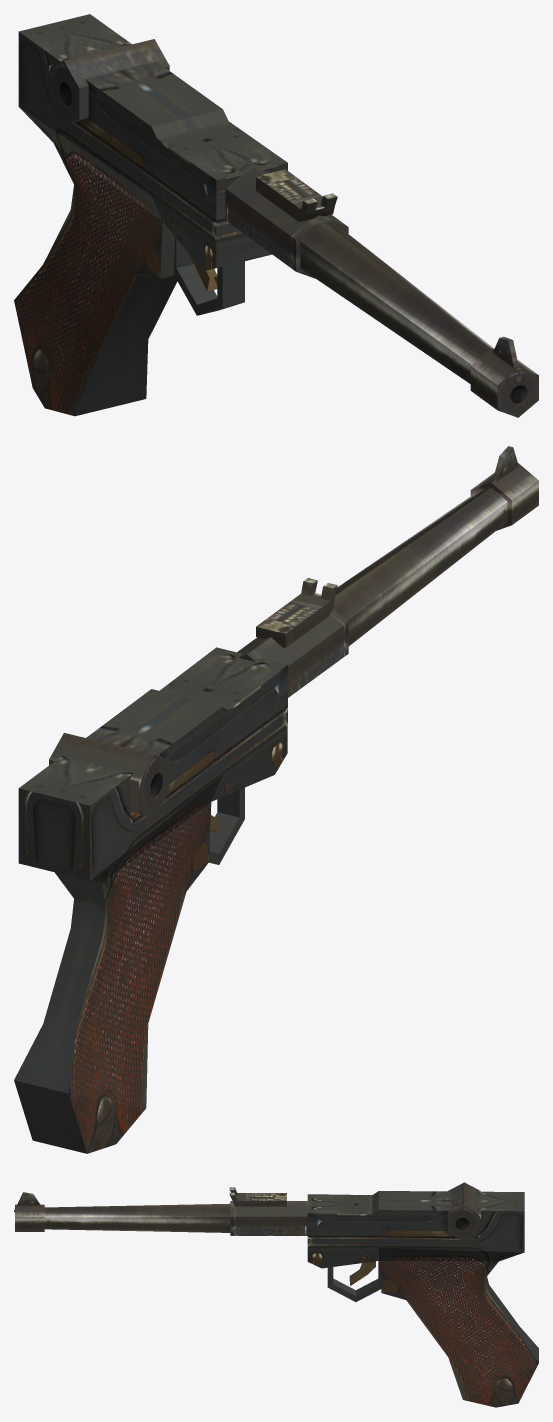
File: Lugar.fbx
3 renders of one model, top to bottom at view 1: azimuth 30°, elevation 25°; view 2: azimuth 150°, elevation 25°; view 3: azimuth 270°, elevation 25°, orthographic. The views are drawn at different scales.
Visible parts, largest first — view 1: Lugar; view 2: Lugar; view 3: Lugar, Trigger.
Boxes of the visible parts, bbox=[...] form: Lugar: bbox=[14, 14, 538, 417]; Lugar: bbox=[14, 446, 538, 1153]; Lugar: bbox=[14, 1182, 538, 1407]; Trigger: bbox=[349, 1261, 375, 1285].
Bounding box in the file's own units: 20.83 × 82.8 × 191.
1 material, 1 textured.
